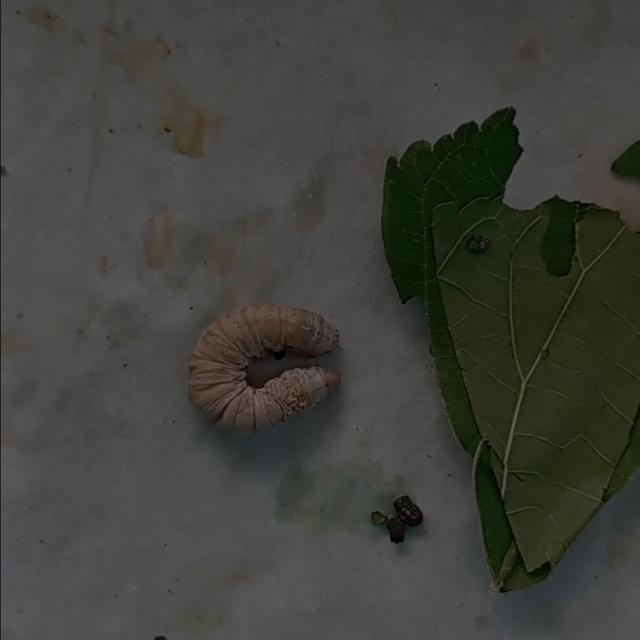Grasserie: (128, 220, 460, 534)
